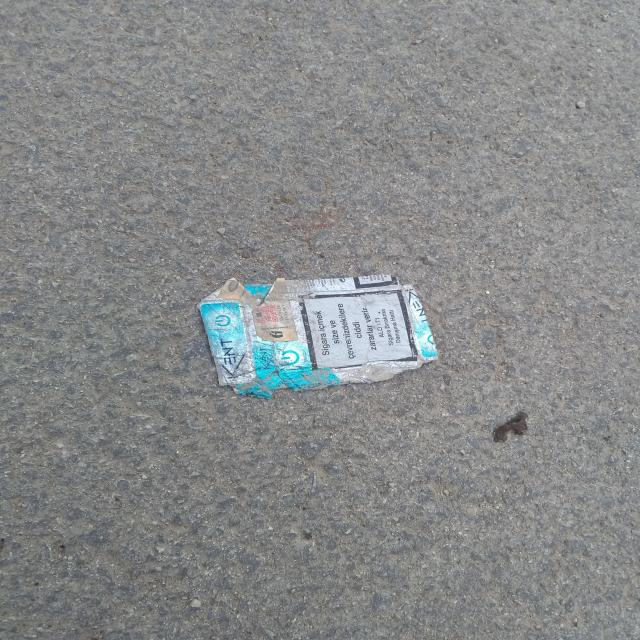Other carton: (198, 274, 437, 399)
